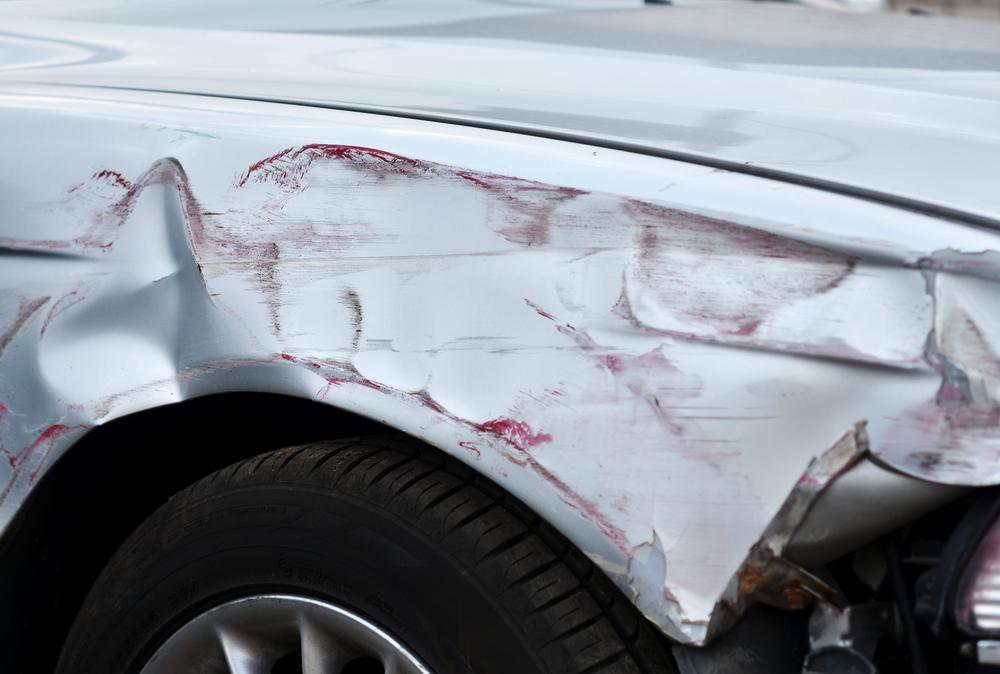dent: (264, 154, 999, 643), (39, 158, 212, 420)
scratch: (180, 139, 429, 402), (0, 171, 138, 523)
